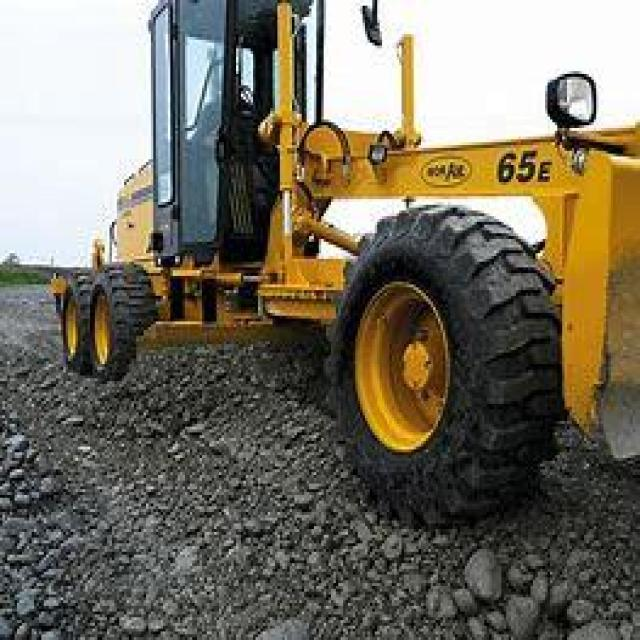buldozerpayloadergrader: (24, 2, 633, 538)
